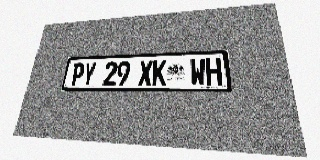2: (102, 61, 118, 86)
9: (115, 61, 131, 86)
H: (205, 58, 223, 86)
K: (152, 60, 167, 86)
P: (70, 63, 85, 86)
W: (190, 58, 206, 86)
X: (138, 60, 153, 86)
Y: (81, 62, 97, 86)
